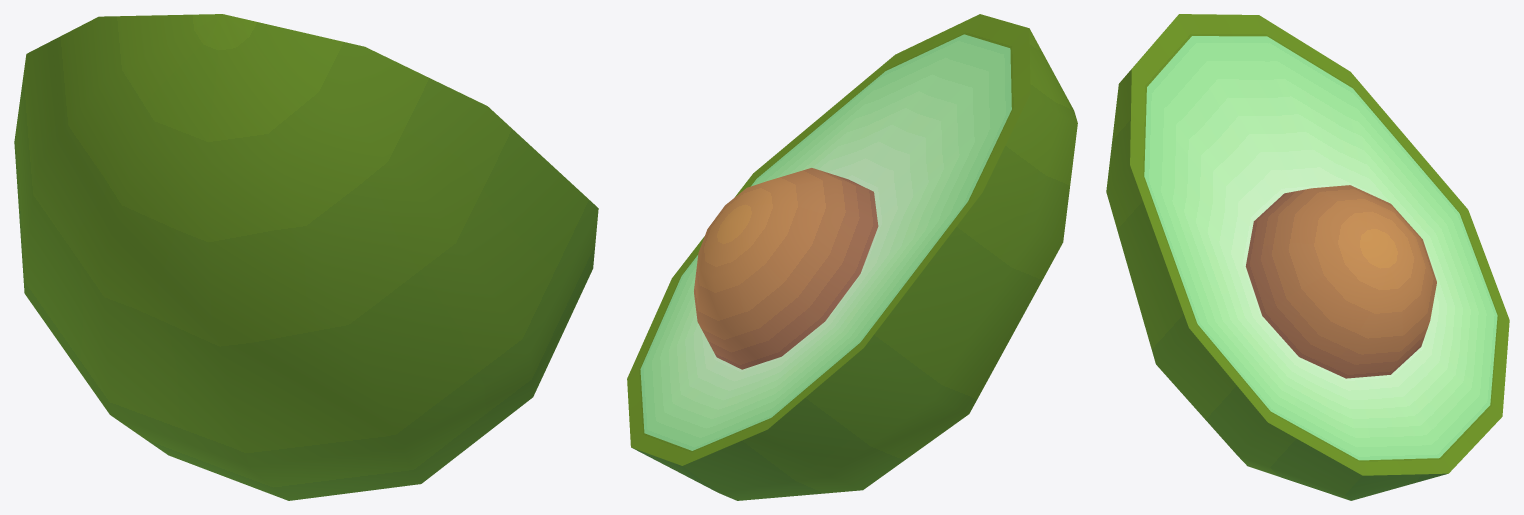
Rendered from avocado.glb.
3 renders of one model, left to right at view 1: azimuth 30°, elevation 25°; view 2: azimuth 150°, elevation 25°; view 3: azimuth 270°, elevation 25°, orthographic. The views are drawn at different scales.
Visible parts, largest first — view 1: mesh_avocado_01 - Default.001_0; view 2: mesh_avocado_01 - Default.001_0; view 3: mesh_avocado_01 - Default.001_0.
Boxes of the visible parts, x1=… form: mesh_avocado_01 - Default.001_0: x1=14, y1=14, x2=598, y2=500; mesh_avocado_01 - Default.001_0: x1=627, y1=14, x2=1077, y2=500; mesh_avocado_01 - Default.001_0: x1=1106, y1=14, x2=1509, y2=500.
Bounding box in the file's own units: 124 × 133 × 124.
Materials: 1 (1 with a texture image).
